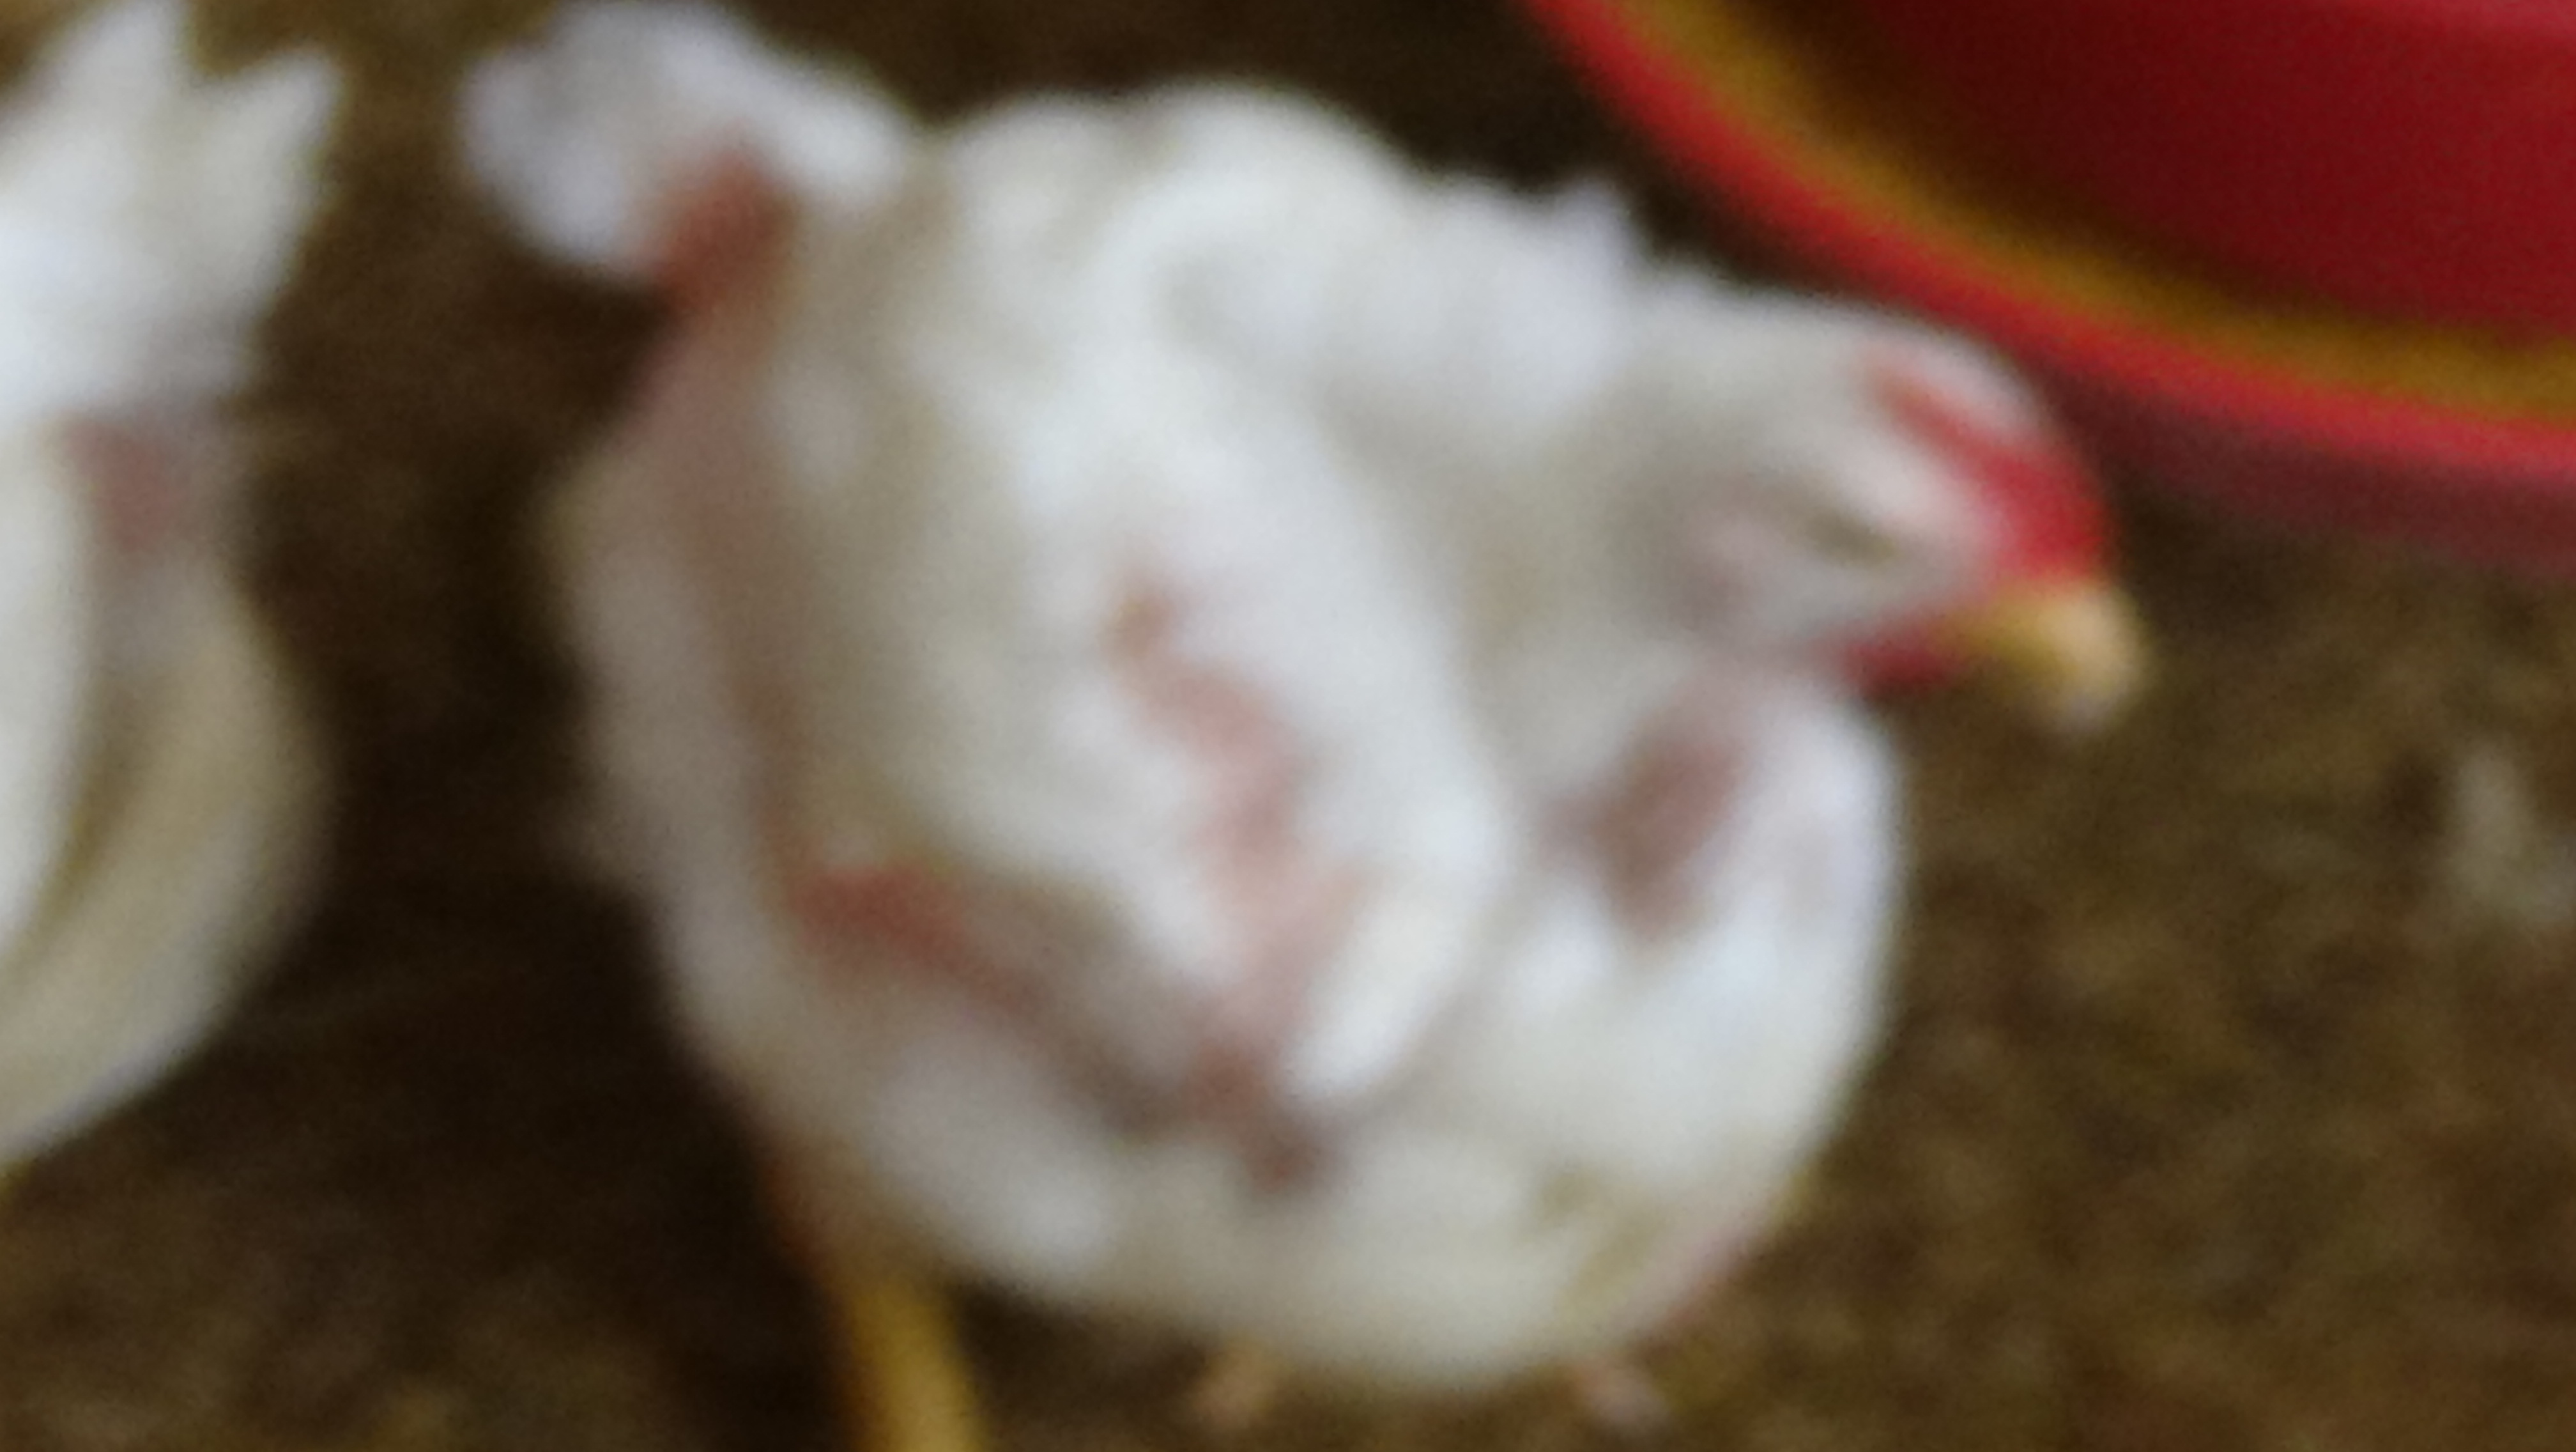Pollos: (453, 0, 2187, 1431)
